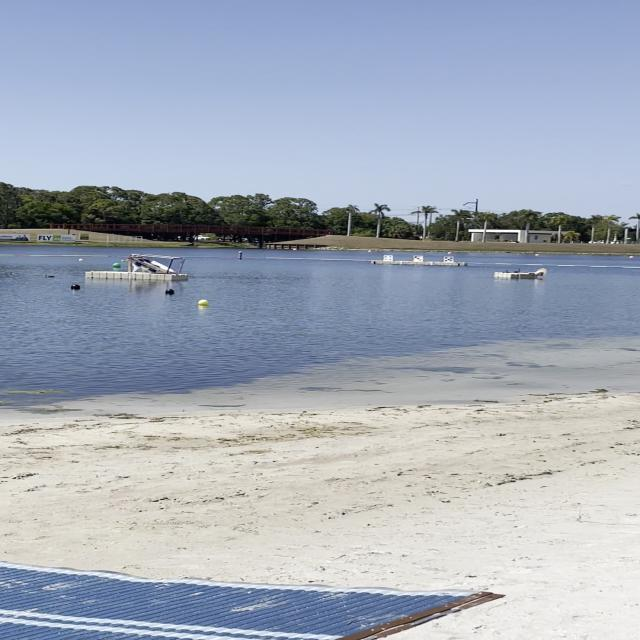buoy: (197, 298, 208, 306), (164, 288, 173, 296), (70, 284, 80, 290), (112, 262, 121, 268)
